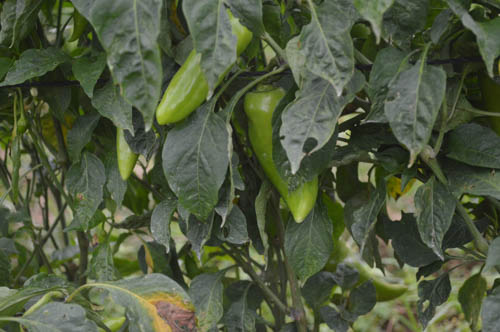ChiliPepper: (154, 12, 253, 123), (241, 88, 320, 221), (116, 75, 146, 185)
